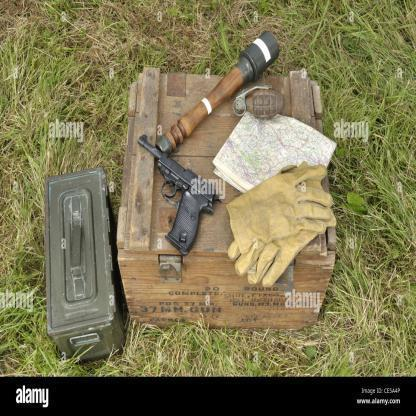Grenade: (156, 28, 281, 154), (233, 82, 286, 122)
Pistol: (137, 134, 223, 258)
